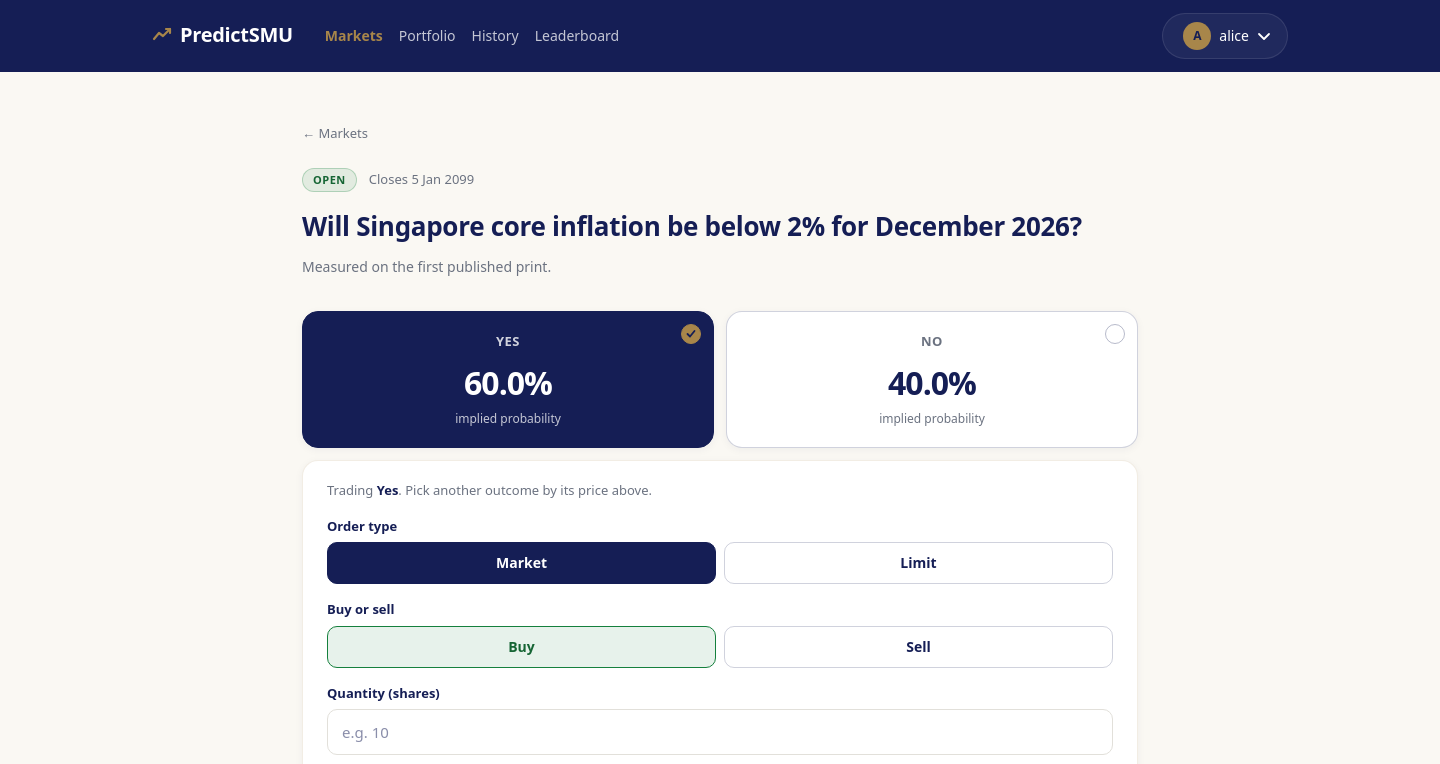
MarketDetailPage › choosing an outcome by its price › trades and quotes the outcome whose price was clicked
The image size is (1440, 764).
Click the radio button with aria-label "No, 40.0%".
click(932, 380)  # box 726,311 -> 1138,448
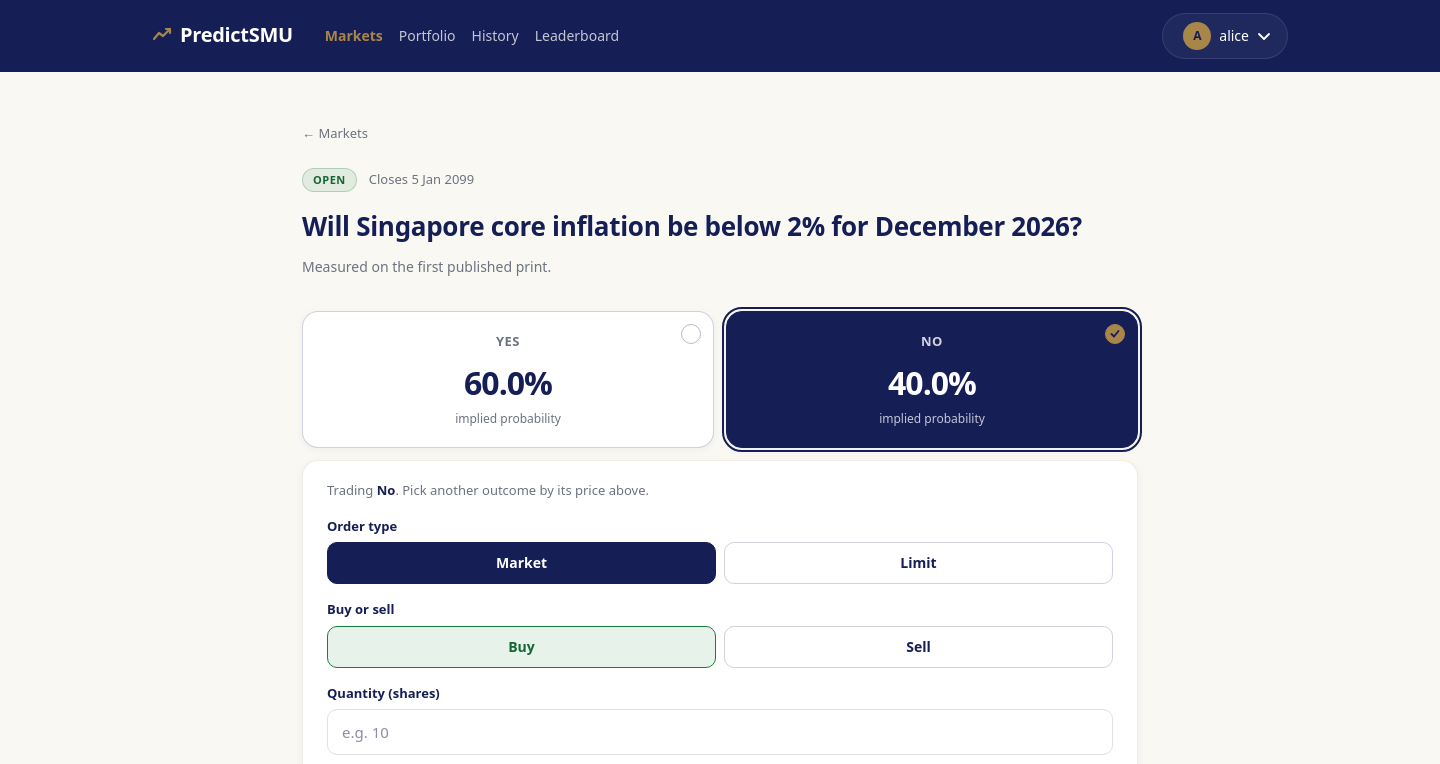
Expected: the radio button with aria-label "No, 40.0%" is checked, 726,311 -> 1138,448
Expected: the radio button with aria-label "Yes, 60.0%" is not checked, 302,311 -> 714,448
Expected: the text "Trading No. Pick another outcome by its price above." is shown, 327,481 -> 649,499
Type "10" into the number field labelled "Quantity (shares)".
click(720, 732); type("10")  # box 327,709 -> 1113,755
(page scrolled)
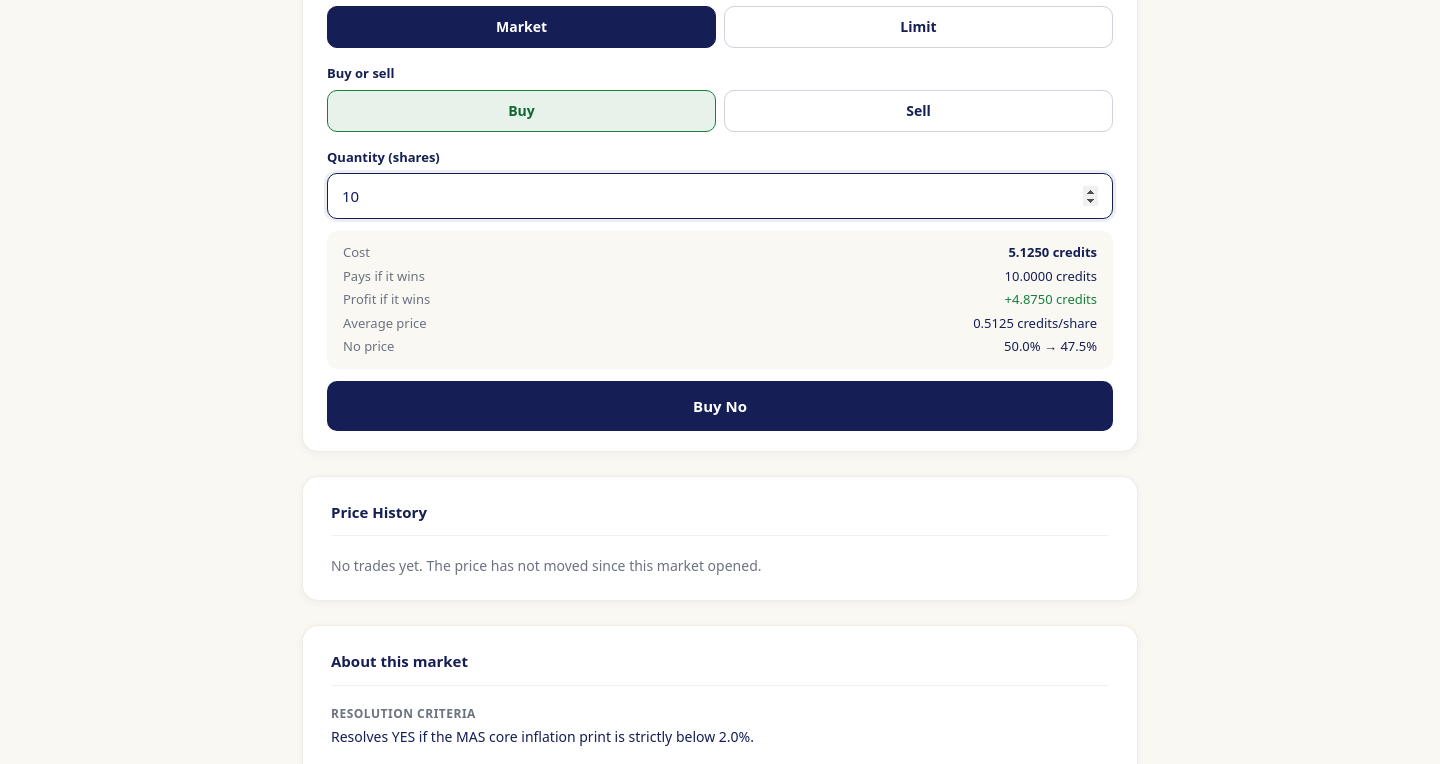
Expected: the button "Buy No" is shown, 327,381 -> 1113,431
Expected: the element named "trade preview" shows "50.0% → 47.5%", 327,231 -> 1113,369
